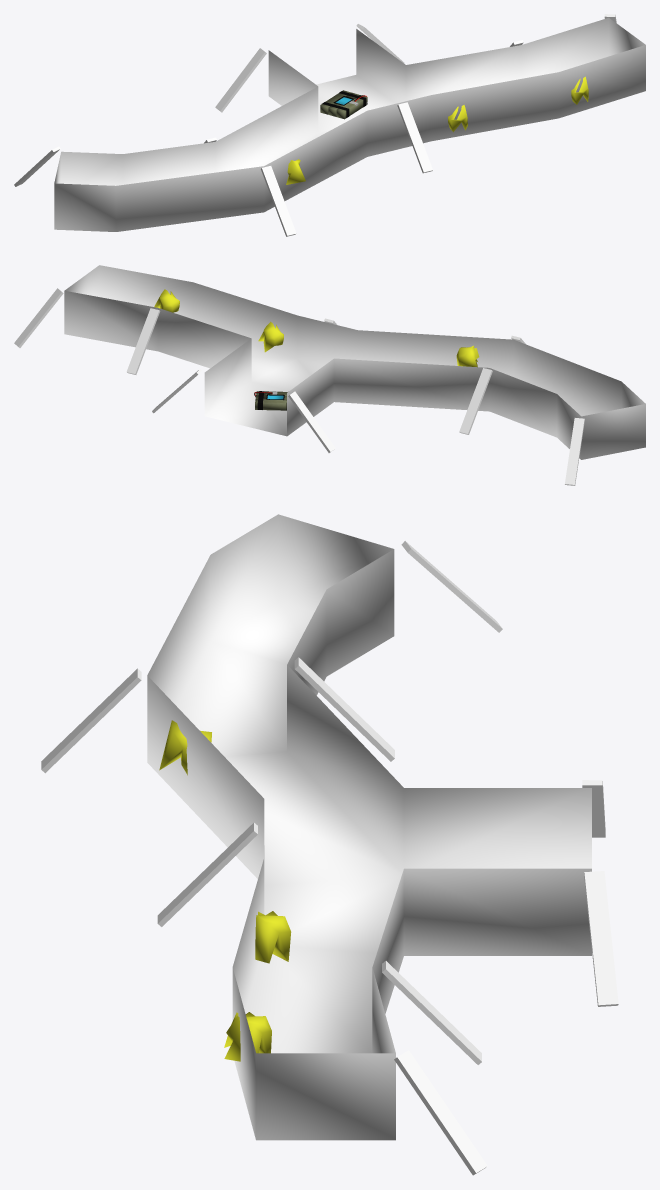
The model's file is MineAssassinMap.glb.
3 views of the same model, one above another, from view 1: azimuth 30°, elevation 25°; view 2: azimuth 150°, elevation 25°; view 3: azimuth 270°, elevation 25° (orthographic). The views are drawn at different scales.
Visible parts, largest first — view 1: FakeMap, Bomb.001, Plank.002, Plank.003, Plank.004, Gold.001, Gold.002; view 2: FakeMap, Plank.001, Plank, Plank.006, Plank.004, Bomb.001, Plank.007, Gold.002, Gold.001, Gold.003; view 3: FakeMap, Plank.005, Plank.007, Plank.002, Plank, Plank.003, Plank.006, Gold.002, Gold.003, Plank.001, Gold.001.
Boxes of the visible parts, x1,y1,x2,y2 form: FakeMap: [54, 17, 645, 231]; Bomb.001: [320, 90, 367, 119]; Plank.002: [261, 166, 296, 236]; Plank.003: [397, 102, 432, 173]; Plank.004: [215, 48, 266, 112]; Gold.001: [286, 159, 305, 184]; Gold.002: [448, 105, 467, 132]; FakeMap: [64, 265, 645, 459]; Plank.001: [565, 418, 584, 485]; Plank: [459, 368, 492, 434]; Plank.006: [126, 308, 160, 374]; Plank.004: [288, 391, 335, 452]; Bomb.001: [254, 391, 287, 410]; Plank.007: [14, 288, 63, 347]; Gold.002: [258, 321, 283, 352]; Gold.001: [456, 345, 479, 367]; Gold.003: [154, 289, 179, 312]; FakeMap: [147, 514, 591, 1140]; Plank.005: [584, 871, 618, 1006]; Plank.007: [394, 1050, 487, 1175]; Plank.002: [41, 668, 141, 773]; Plank: [294, 657, 394, 761]; Plank.003: [157, 823, 257, 926]; Plank.006: [382, 961, 481, 1064]; Gold.002: [255, 911, 291, 963]; Gold.003: [224, 1012, 271, 1061]; Plank.001: [401, 541, 502, 632]; Gold.001: [159, 720, 211, 775].
Bounding box in the file's own units: 57.81 × 4.57 × 24.81.
Materials: 9 (1 with a texture image).
